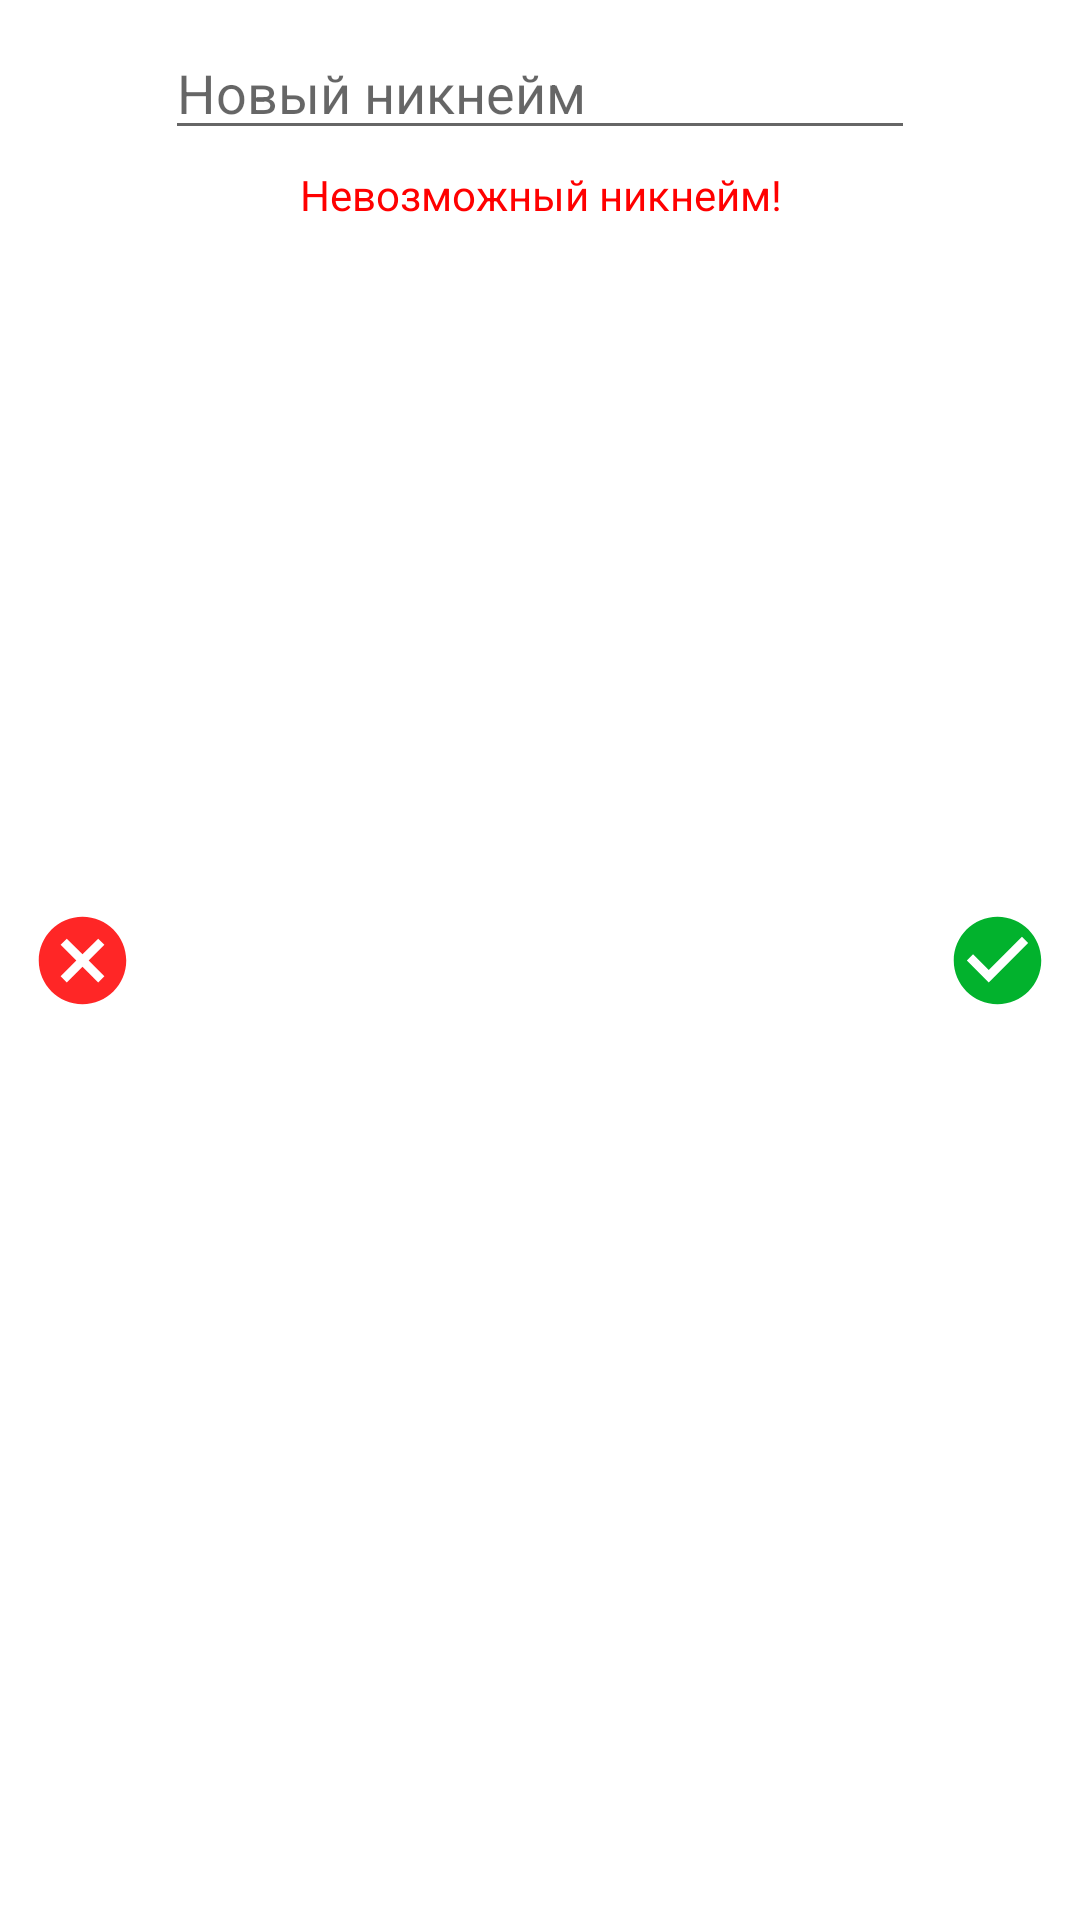

Named icons in this screenshot (1080 × 1920) and their bounding boxes, rect(x1, y1, x2, y2):
cancel: rect(38, 916, 127, 1005)
check circle: rect(953, 916, 1042, 1005)
